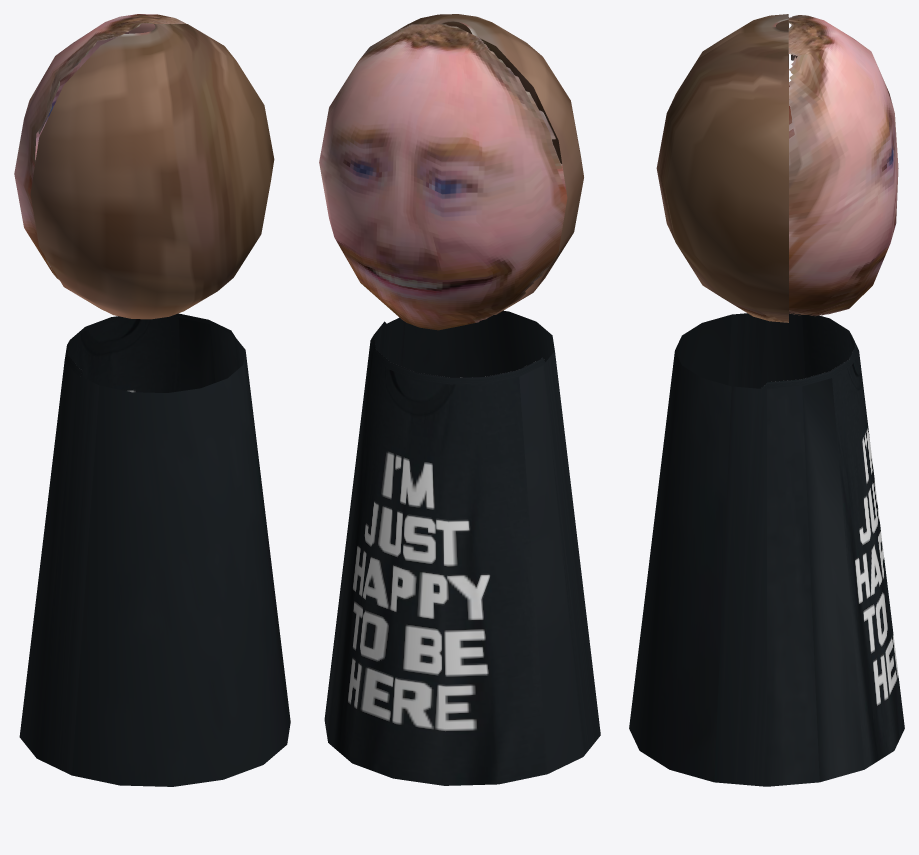
Rendered from alan_mii.fbx.
3 views of the same model, side by side, from view 1: azimuth 30°, elevation 25°; view 2: azimuth 150°, elevation 25°; view 3: azimuth 270°, elevation 25° (orthographic).
Visible parts, largest first — view 1: mii.002; view 2: mii.002; view 3: mii.002.
Part boxes in pixels (<box>): mii.002: <box>14,14,290,786</box>; mii.002: <box>319,14,600,785</box>; mii.002: <box>629,14,904,786</box>.
Size of the model in its own units: 50 by 160 by 50.
